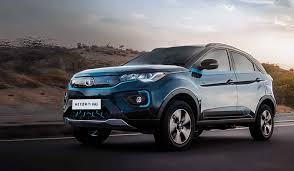Tata Nexon: (61, 42, 276, 153)
